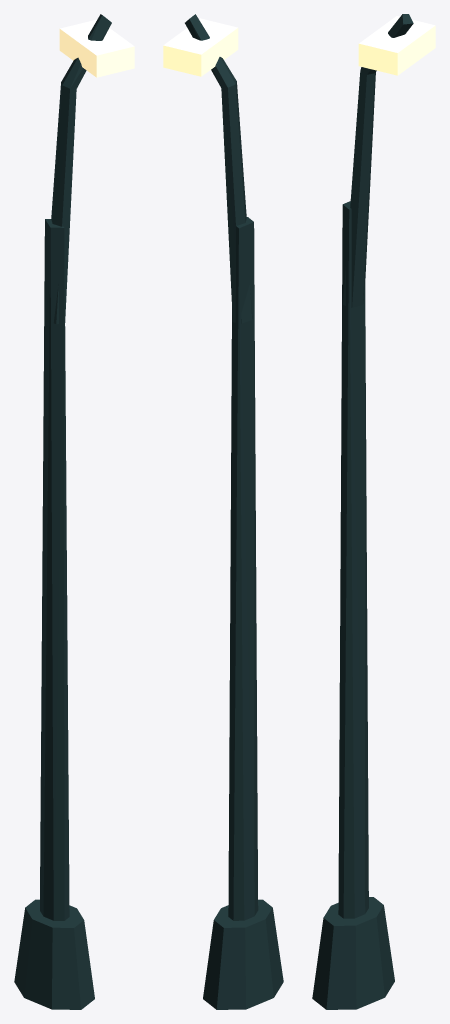
File: lamp_post_modern.fbx
3 renders of one model, left to right at view 1: azimuth 30°, elevation 25°; view 2: azimuth 150°, elevation 25°; view 3: azimuth 330°, elevation 25°, orthographic. The views are drawn at different scales.
Parts seen in each view (by area): view 1: lamp_post_modern; view 2: lamp_post_modern; view 3: lamp_post_modern.
Boxes of the visible parts, box(x1,y1,x2,y2) form: lamp_post_modern: box(14, 14, 134, 1009); lamp_post_modern: box(163, 14, 283, 1009); lamp_post_modern: box(312, 14, 435, 1009).
Size of the model in its own units: 0.5 by 5 by 0.5.
